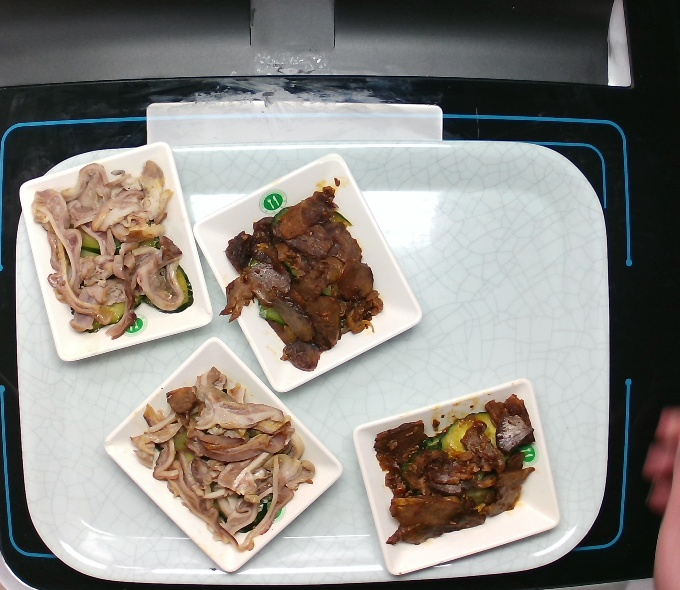wcq-JiangNiuRou: (212, 166, 393, 377), (365, 385, 548, 557)
wcq-ZhuDu: (121, 363, 319, 560), (30, 155, 199, 345)
